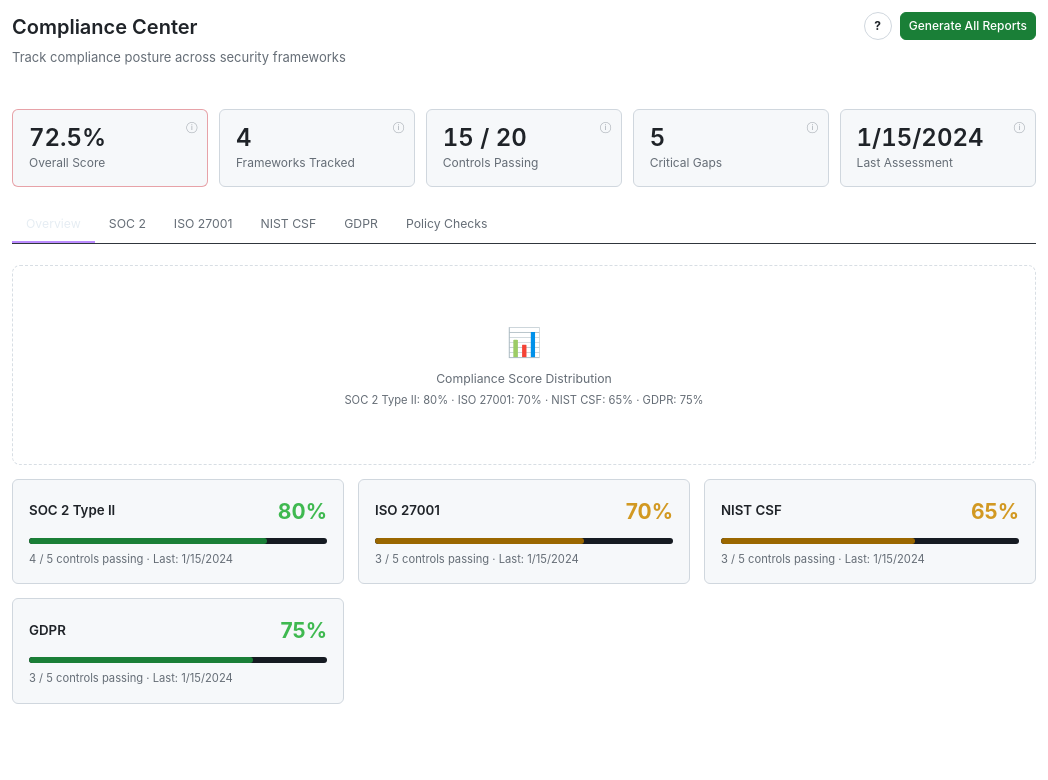
Test: CompliancePage › navigates to framework tab from framework card click
This screenshot has width=1048, height=780.
Note: Click the SOC 2 card
Click the text "SOC 2 Type II": click(72, 511) x1=29 y1=502 x2=115 y2=521
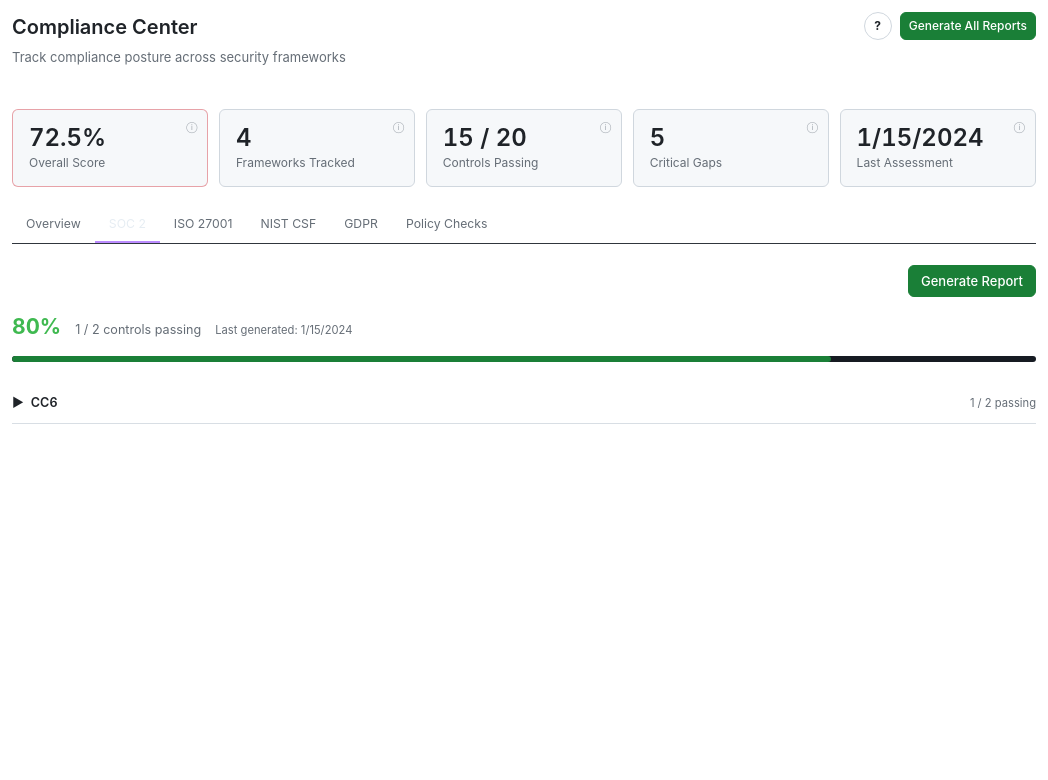
Expected: the button "Generate Report" is shown, x1=908 y1=265 x2=1036 y2=297
